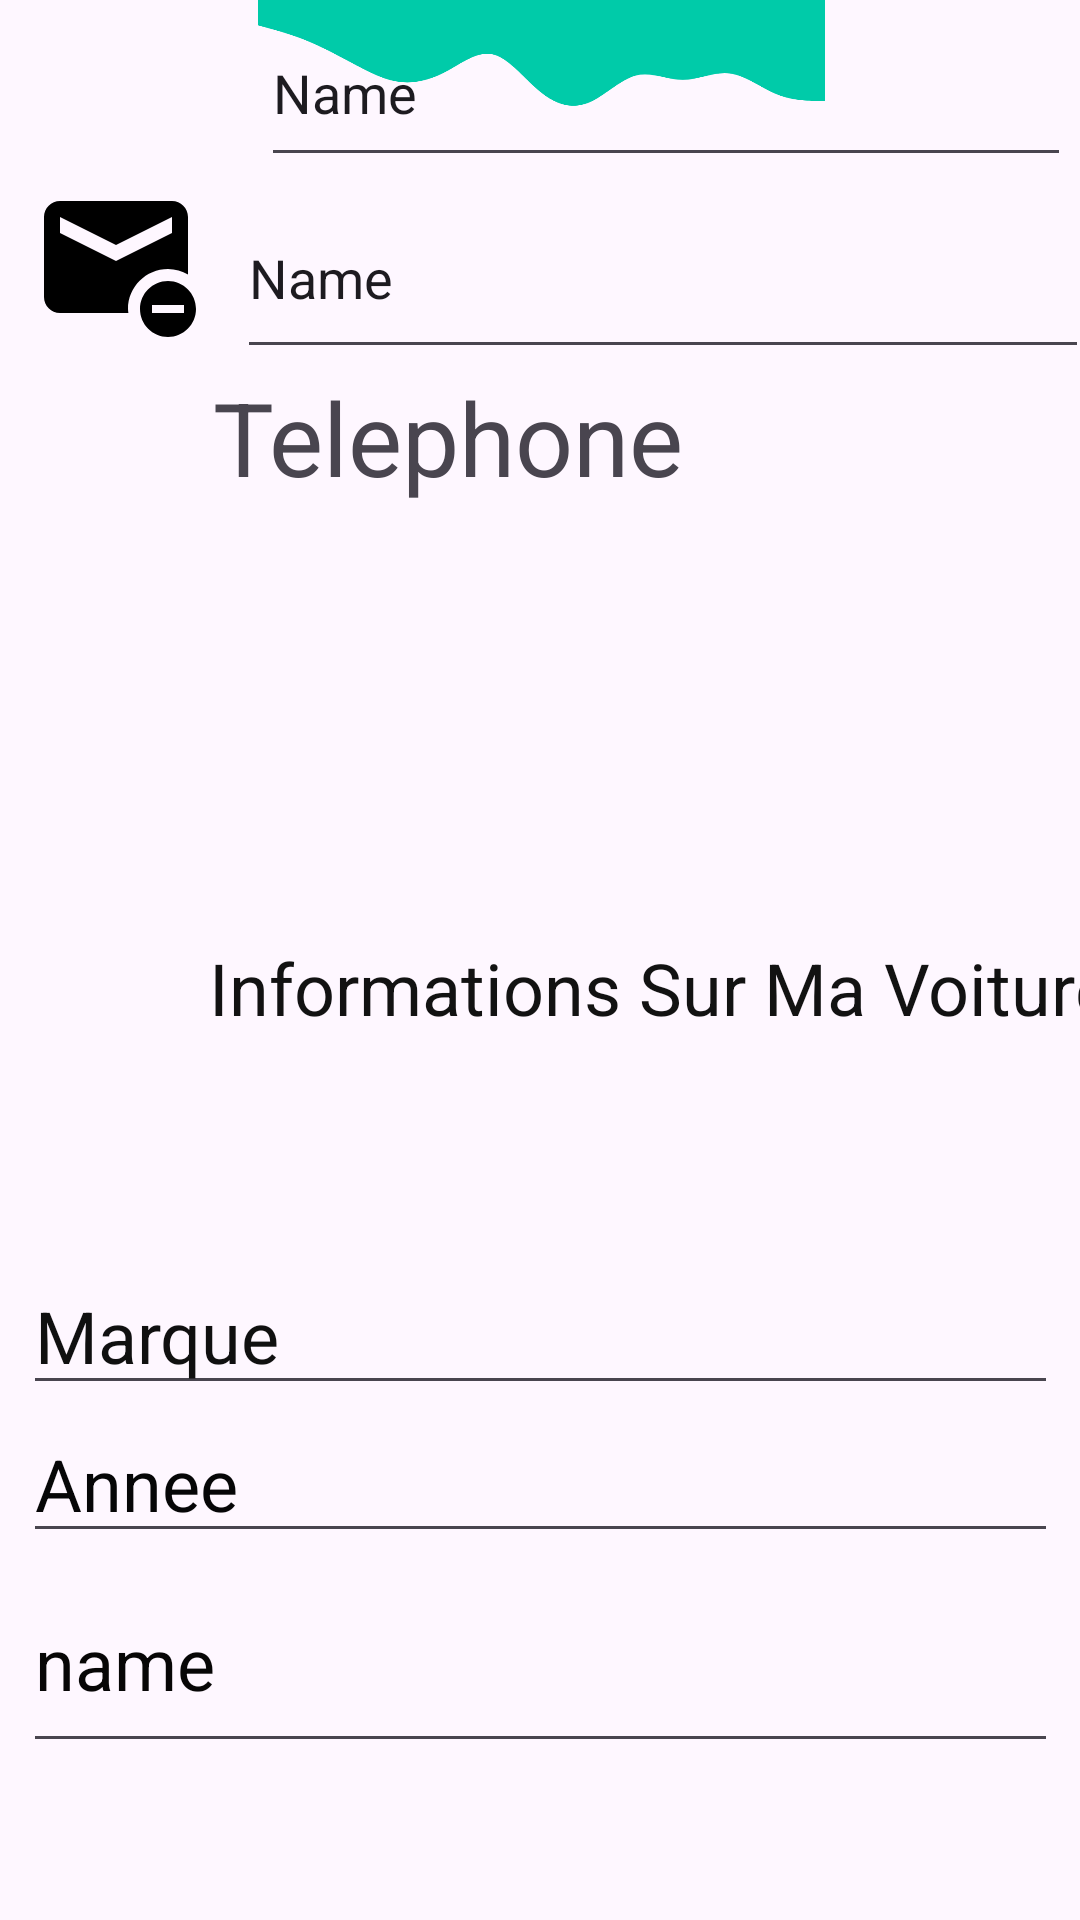

Icons on this 1080×1920 Android screen, each with the point to tap as [x,y]:
emailicon: [120,269]
